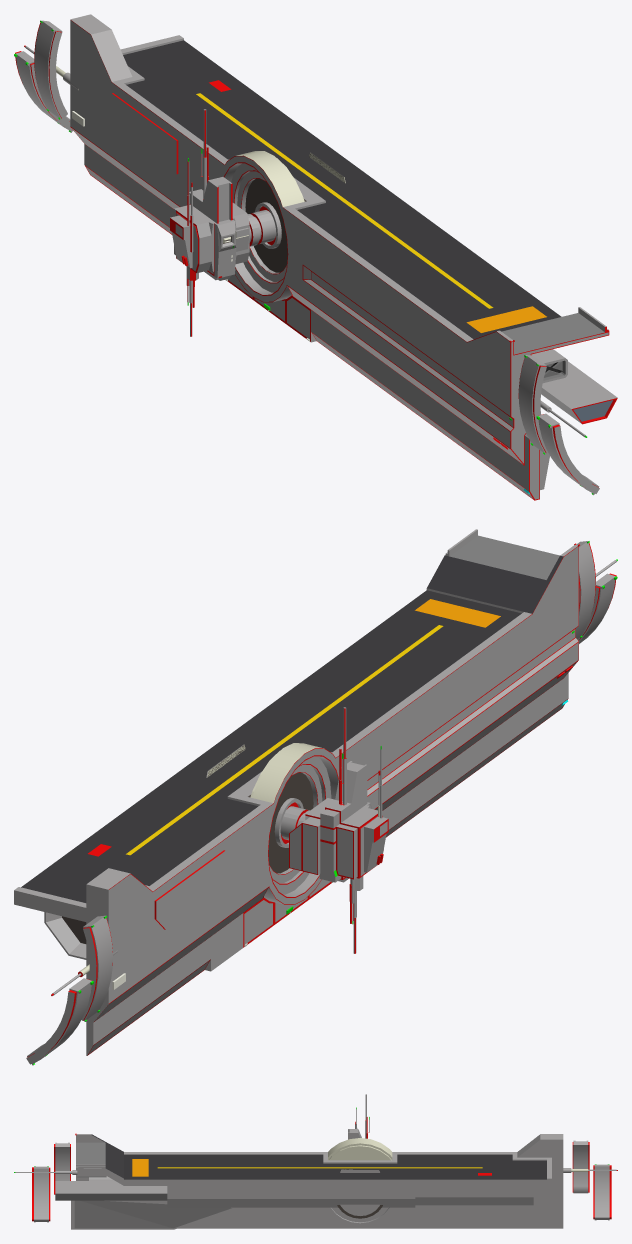
The model's file is carrier.obj.
The picture shows the model from 3 angles, top to bottom: view 1: azimuth 30°, elevation 25°; view 2: azimuth 150°, elevation 25°; view 3: azimuth 270°, elevation 25°; orthographic projection. The views are drawn at different scales.
Parts seen in each view (by area): view 1: Mesh1 Model, Mesh10 Model, Mesh4 Model, Mesh5 Model, Mesh8 Model; view 2: Mesh1 Model, Mesh10 Model, Mesh8 Model, Mesh4 Model, Mesh5 Model; view 3: Mesh1 Model, Mesh8 Model, Mesh5 Model, Mesh10 Model, Mesh4 Model.
Boxes of the visible parts, x1,y1,x2,y2 form: Mesh1 Model: (70, 14, 617, 500); Mesh10 Model: (34, 20, 67, 119); Mesh4 Model: (518, 355, 547, 454); Mesh5 Model: (536, 413, 599, 495); Mesh8 Model: (14, 51, 73, 132); Mesh1 Model: (14, 529, 578, 1055); Mesh10 Model: (81, 915, 112, 1021); Mesh8 Model: (26, 978, 93, 1065); Mesh4 Model: (575, 541, 595, 639); Mesh5 Model: (577, 573, 617, 643); Mesh1 Model: (55, 1094, 563, 1229); Mesh8 Model: (593, 1164, 611, 1220); Mesh5 Model: (32, 1166, 50, 1222); Mesh10 Model: (572, 1140, 589, 1193); Mesh4 Model: (54, 1142, 70, 1194).
Bounding box in the file's own units: 23407 × 29096 × 127641.
